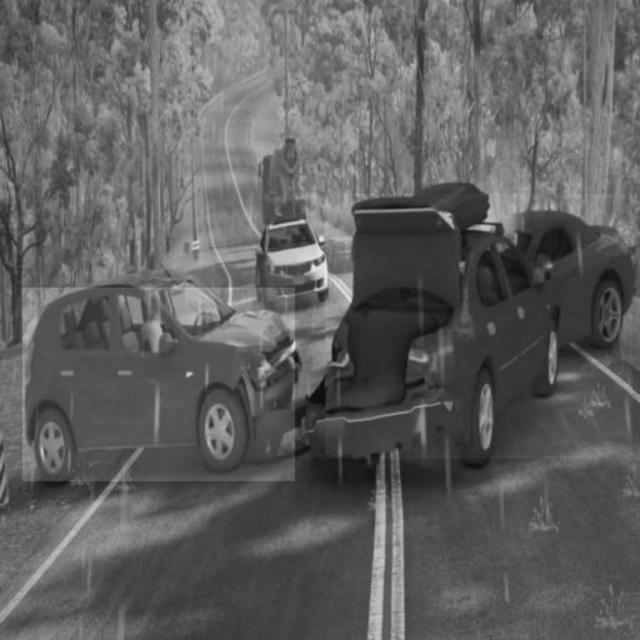accident: (325, 195, 632, 459)
vehicle: (22, 288, 294, 482), (257, 218, 333, 304)
